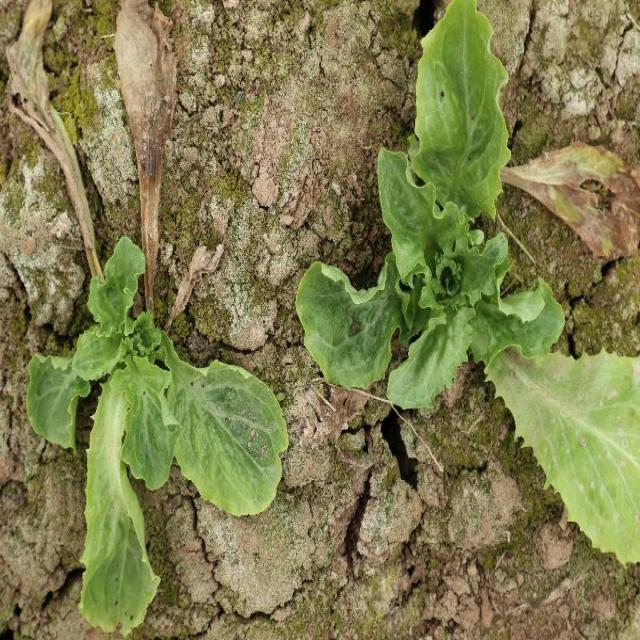crop: (298, 0, 566, 409), (30, 239, 289, 625)
